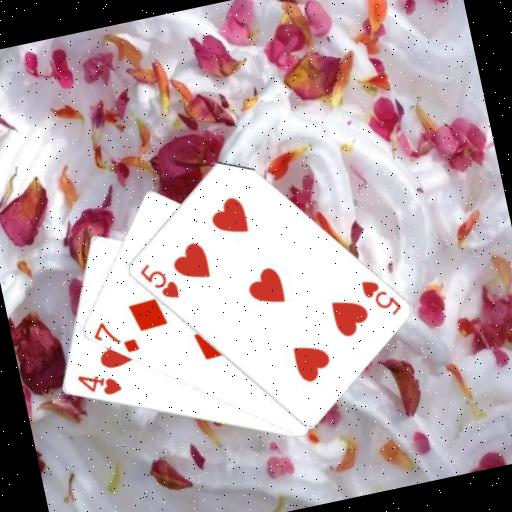4H: (73, 364, 124, 403)
5H: (134, 254, 182, 306), (356, 270, 404, 322)
7D: (88, 312, 141, 361)
